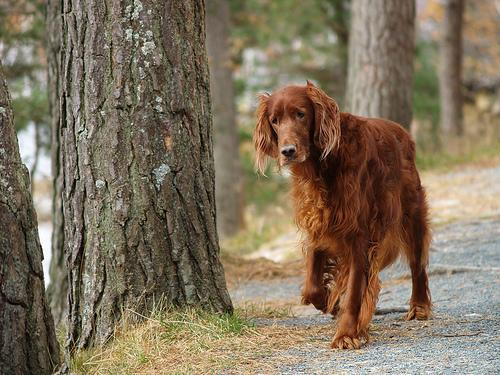Irish_setter: (254, 79, 434, 354)
